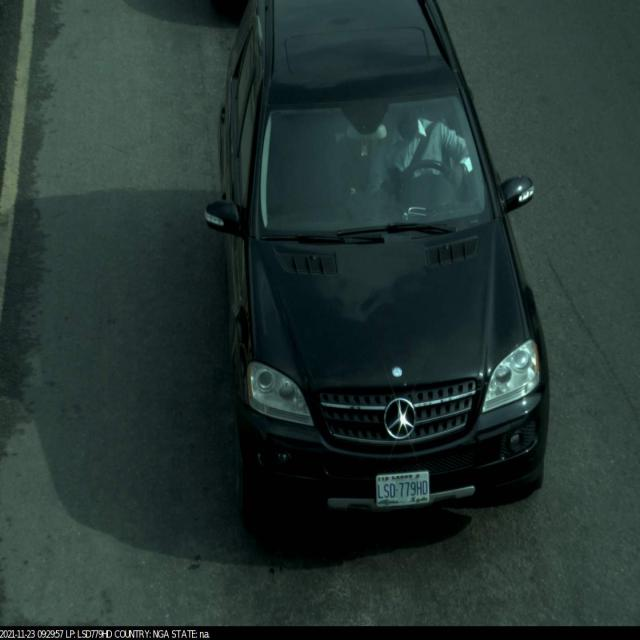windshield: (251, 81, 500, 257)
